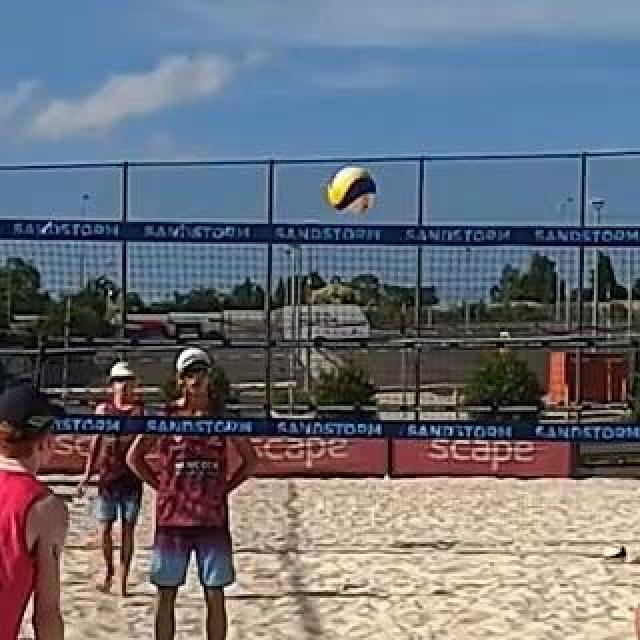volleyball: (328, 168, 376, 214), (604, 544, 626, 568)
